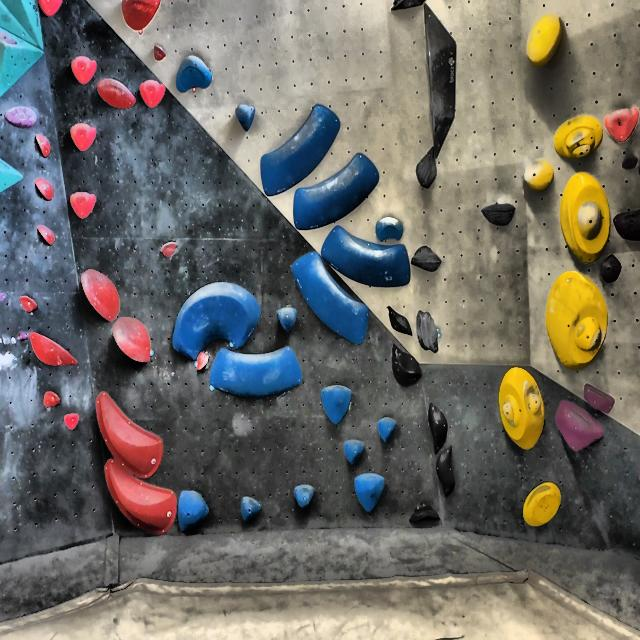Hold: (540, 262, 612, 374), (256, 104, 341, 198), (286, 150, 378, 227), (89, 457, 178, 536), (164, 288, 266, 354), (91, 394, 169, 480), (292, 254, 366, 343), (321, 229, 416, 291), (208, 347, 308, 402), (559, 170, 610, 262), (496, 366, 545, 450), (555, 398, 610, 456), (544, 116, 602, 160), (522, 481, 570, 533), (525, 14, 569, 70), (114, 314, 152, 372), (84, 264, 120, 322), (26, 329, 76, 369), (175, 487, 211, 536), (390, 348, 430, 390), (432, 442, 460, 501), (423, 399, 450, 456), (121, 0, 162, 37), (353, 472, 387, 514), (176, 57, 215, 92), (232, 490, 267, 529), (607, 102, 640, 143), (418, 306, 446, 354), (94, 78, 135, 110), (520, 154, 555, 190), (585, 379, 621, 414), (378, 300, 417, 331), (614, 199, 640, 244), (274, 301, 304, 339), (415, 148, 439, 190), (409, 501, 444, 529), (414, 242, 444, 274), (4, 103, 42, 128), (139, 77, 165, 110), (478, 206, 520, 226), (68, 53, 96, 83), (598, 250, 622, 284), (68, 193, 100, 218), (68, 123, 96, 151), (291, 479, 314, 512), (189, 348, 214, 374), (18, 291, 40, 319), (156, 238, 182, 260), (37, 0, 66, 19), (33, 173, 53, 199), (235, 102, 254, 129), (32, 132, 50, 160), (36, 220, 54, 247), (622, 146, 640, 172), (0, 31, 22, 51), (42, 388, 61, 409), (61, 413, 83, 431), (152, 41, 166, 62)
